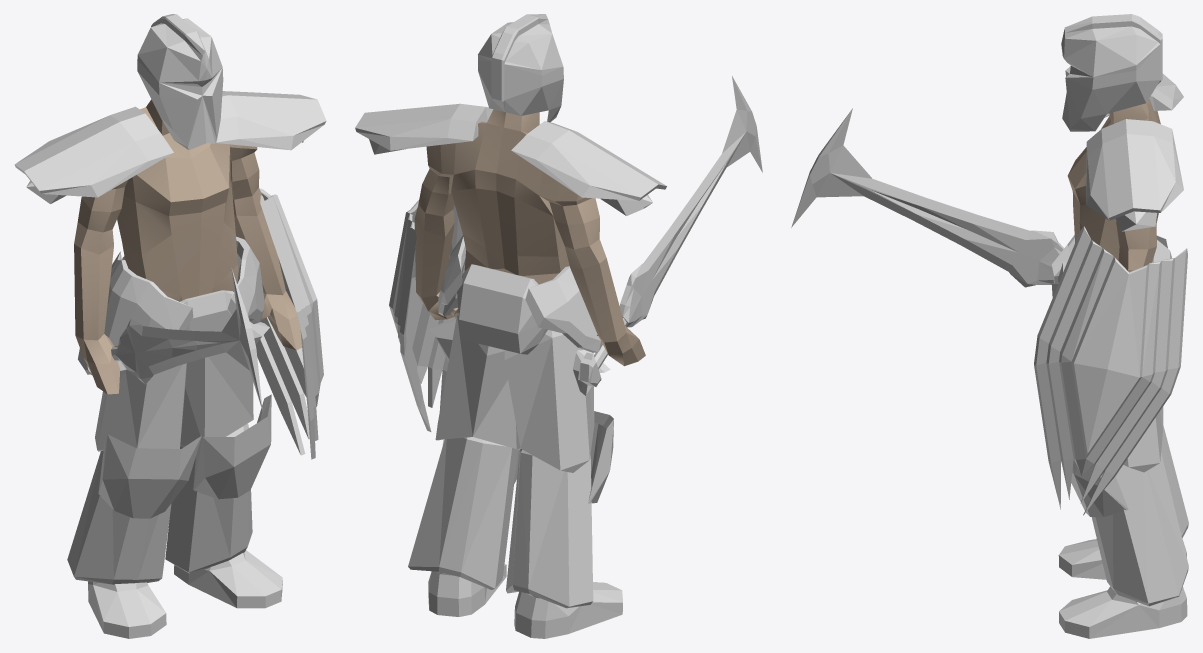
File: Player_ShortSword.fbx
3 renders of one model, left to right at view 1: azimuth 30°, elevation 25°; view 2: azimuth 150°, elevation 25°; view 3: azimuth 270°, elevation 25°, orthographic.
Visible parts, largest first — view 1: Cube.023, Cube.028, Cube.007, Cube.002, Cube.006, Cube, Cube.005, Cube.011, Cube.004, Cube.001, Cube.025, Cube.008 (+3 smaller); view 2: Cube.023, Cube.028, Cube.007, Cube.011, Cube.004, Cube.006, Cube.002, Cube.005, Cube, Cube.009, Cube.001, Cube.027 (+3 smaller); view 3: Cube, Cube.007, Cube.005, Cube.006, Cube.001, Cube.023, Cube.008, Cube.027, Cube.004, Cube.028, Cube.002.
Part boxes in pixels (x1,y1,x2,y2): Cube.023: [74, 99, 301, 394]; Cube.028: [67, 434, 201, 584]; Cube.007: [165, 394, 271, 573]; Cube.002: [14, 106, 173, 203]; Cube.006: [137, 14, 223, 149]; Cube: [236, 188, 323, 459]; Cube.005: [78, 268, 262, 410]; Cube.011: [87, 361, 186, 451]; Cube.004: [180, 321, 269, 447]; Cube.001: [216, 91, 326, 150]; Cube.025: [104, 251, 193, 346]; Cube.008: [174, 550, 282, 608]; Cube.023: [414, 109, 645, 366]; Cube.028: [506, 411, 613, 608]; Cube.007: [408, 437, 519, 589]; Cube.011: [504, 330, 610, 472]; Cube.004: [428, 309, 516, 448]; Cube.006: [478, 14, 563, 122]; Cube.002: [511, 121, 666, 215]; Cube.005: [578, 76, 762, 386]; Cube: [389, 199, 462, 431]; Cube.009: [457, 264, 547, 354]; Cube.001: [355, 103, 493, 154]; Cube.027: [514, 582, 622, 638]; Cube: [1034, 226, 1187, 515]; Cube.007: [1061, 453, 1188, 606]; Cube.005: [791, 108, 1064, 287]; Cube.006: [1061, 14, 1162, 131]; Cube.001: [1086, 119, 1183, 231]; Cube.023: [1067, 99, 1160, 272]; Cube.008: [1059, 586, 1187, 638]; Cube.027: [1058, 539, 1186, 579]; Cube.004: [1123, 406, 1163, 472]; Cube.028: [1161, 424, 1188, 538]; Cube.002: [1104, 73, 1183, 117].
Size of the model in its own units: 115 by 217 by 135.
